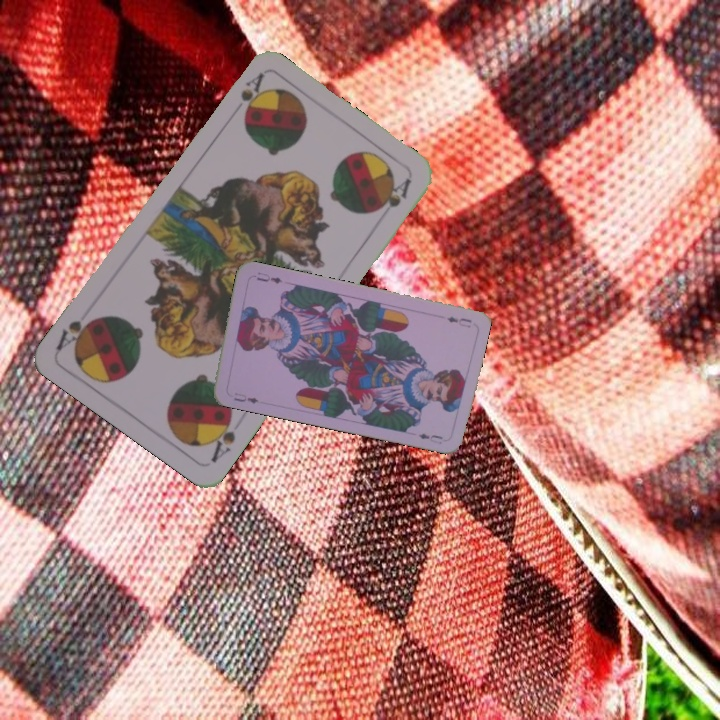EU: (443, 312, 474, 330), (230, 389, 261, 406)
SA: (204, 407, 239, 466), (236, 70, 266, 115)
